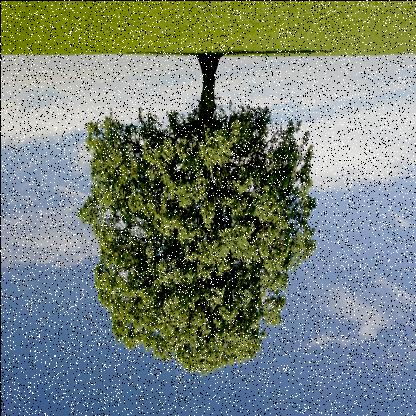Tree: (78, 52, 315, 374)
